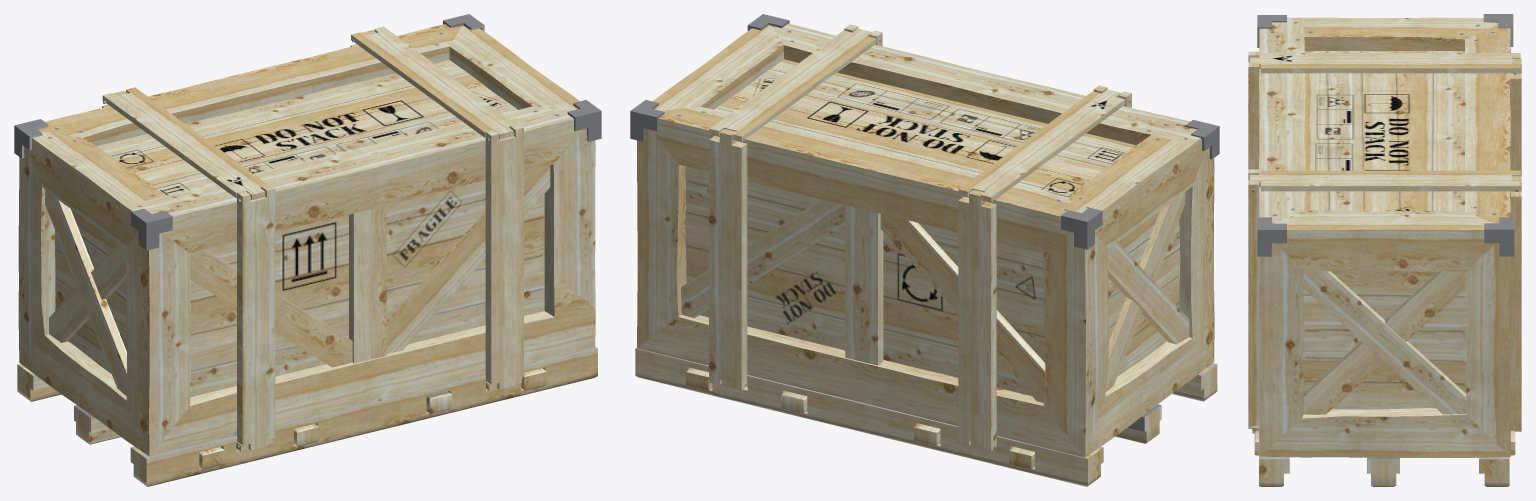
Rendered from obj_wood_shipping_box_32f726.glb.
3 views of the same model, side by side, from view 1: azimuth 30°, elevation 25°; view 2: azimuth 150°, elevation 25°; view 3: azimuth 270°, elevation 25° (orthographic). The views are drawn at different scales.
Visible parts, largest first — view 1: obj_wood_shipping_box_32f726; view 2: obj_wood_shipping_box_32f726; view 3: obj_wood_shipping_box_32f726.
Boxes of the visible parts, x1=… form: obj_wood_shipping_box_32f726: x1=14, y1=14, x2=601, y2=486; obj_wood_shipping_box_32f726: x1=630, y1=14, x2=1219, y2=486; obj_wood_shipping_box_32f726: x1=1248, y1=14, x2=1521, y2=486.
Size of the model in its own units: 0.5 by 0.287 by 0.2674.
Materials: 1 (1 with a texture image).
